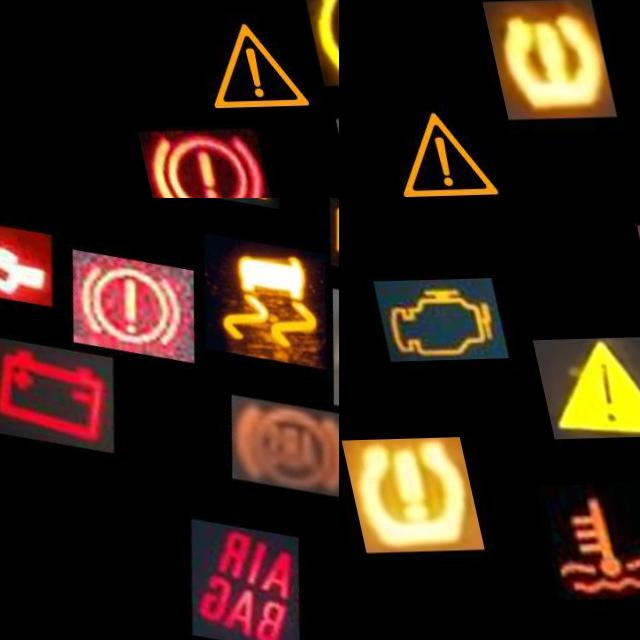Central Warning lamp: (164, 6, 303, 127), (365, 95, 504, 198), (520, 339, 640, 440)
Engine cooling system: (515, 484, 640, 601)
